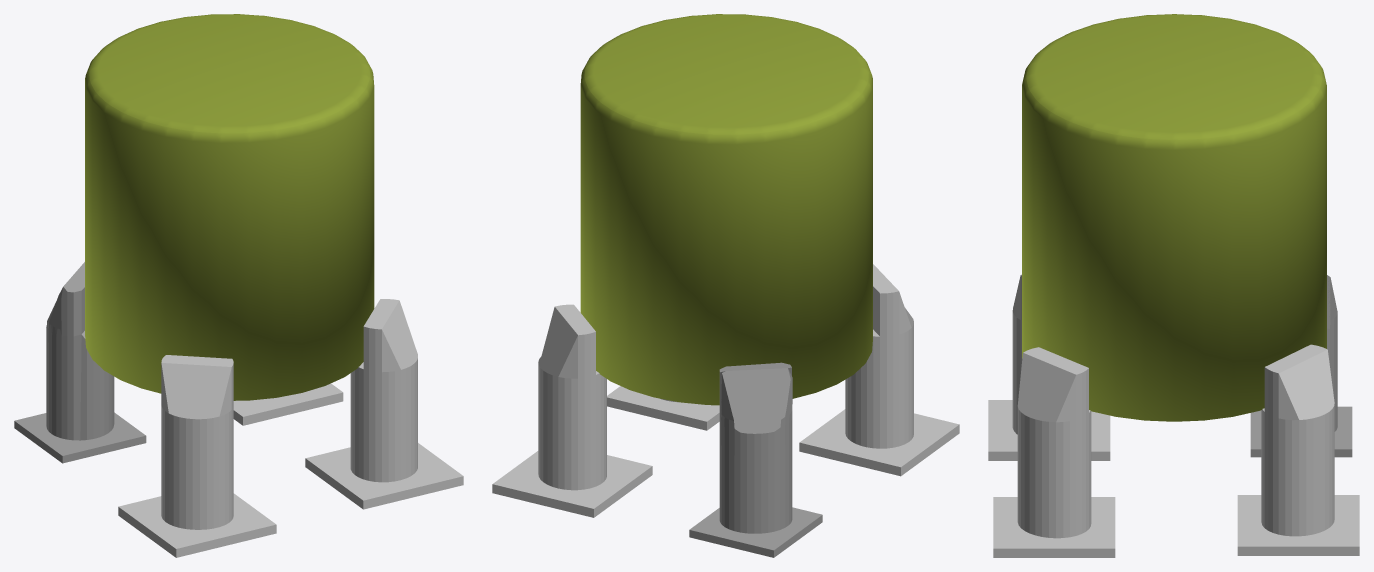
File: tank2Taller.obj
The picture shows the model from 3 angles, left to right: view 1: azimuth 30°, elevation 25°; view 2: azimuth 150°, elevation 25°; view 3: azimuth 270°, elevation 25°; orthographic projection. The views are drawn at different scales.
Visible parts, largest first — view 1: Cylinder, Cylinder.003_Cylinder.004, Cylinder.001_Cylinder.006, Cylinder.004_Cylinder.008, Cylinder.002_Cylinder.007; view 2: Cylinder, Cylinder.002_Cylinder.007, Cylinder.004_Cylinder.008, Cylinder.003_Cylinder.004, Cylinder.001_Cylinder.006; view 3: Cylinder, Cylinder.001_Cylinder.006, Cylinder.002_Cylinder.007, Cylinder.003_Cylinder.004, Cylinder.004_Cylinder.008.
Part boxes in pixels (x1,y1,x2,y2): Cylinder: (85, 14, 374, 400); Cylinder.003_Cylinder.004: (118, 355, 276, 557); Cylinder.001_Cylinder.006: (305, 299, 463, 509); Cylinder.004_Cylinder.008: (14, 262, 146, 463); Cylinder.002_Cylinder.007: (233, 383, 343, 425); Cylinder: (580, 14, 872, 405); Cylinder.002_Cylinder.007: (492, 304, 652, 517); Cylinder.004_Cylinder.008: (689, 362, 822, 557); Cylinder.003_Cylinder.004: (799, 264, 959, 476); Cylinder.001_Cylinder.006: (607, 386, 719, 430); Cylinder: (1022, 14, 1326, 421); Cylinder.001_Cylinder.006: (993, 347, 1115, 557); Cylinder.002_Cylinder.007: (1237, 344, 1359, 555); Cylinder.003_Cylinder.004: (988, 274, 1110, 460); Cylinder.004_Cylinder.008: (1250, 275, 1352, 457).
Bounding box in the file's own units: 2.31 × 2.95 × 2.43.
